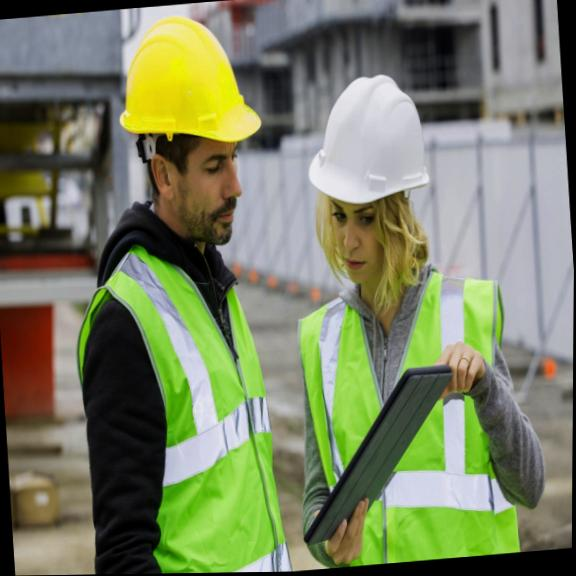safety_vest: (84, 221, 281, 575), (294, 247, 511, 566)
